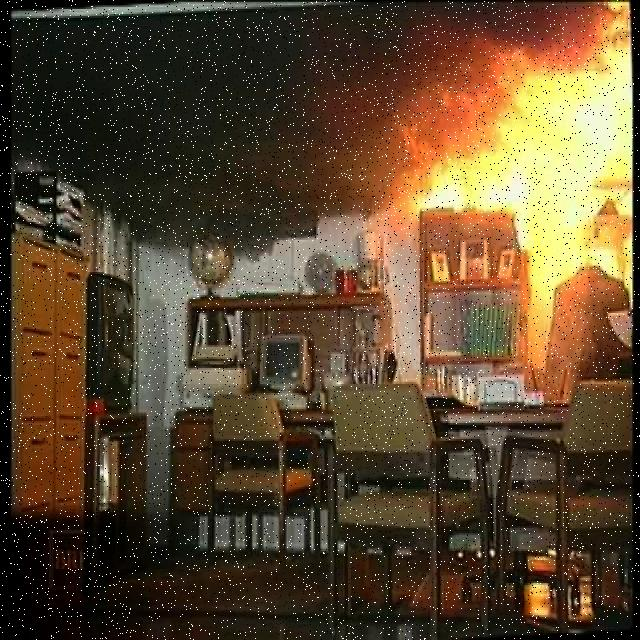fire: (422, 35, 632, 363)
smoke: (42, 32, 372, 230)
